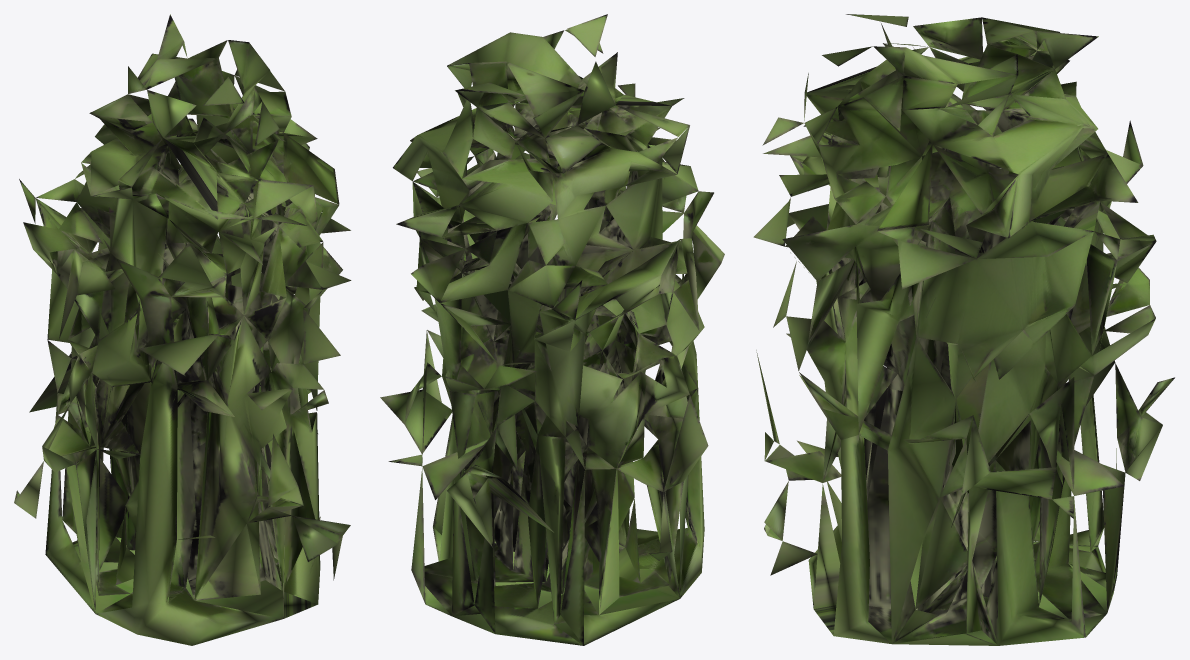
Rendered from BambooGrove.glb.
The picture shows the model from 3 angles, left to right: view 1: azimuth 30°, elevation 25°; view 2: azimuth 150°, elevation 25°; view 3: azimuth 270°, elevation 25°; orthographic projection. The views are drawn at different scales.
Size of the model in its own units: 1.16 by 2 by 1.3.
Materials: 1 (1 with a texture image).
